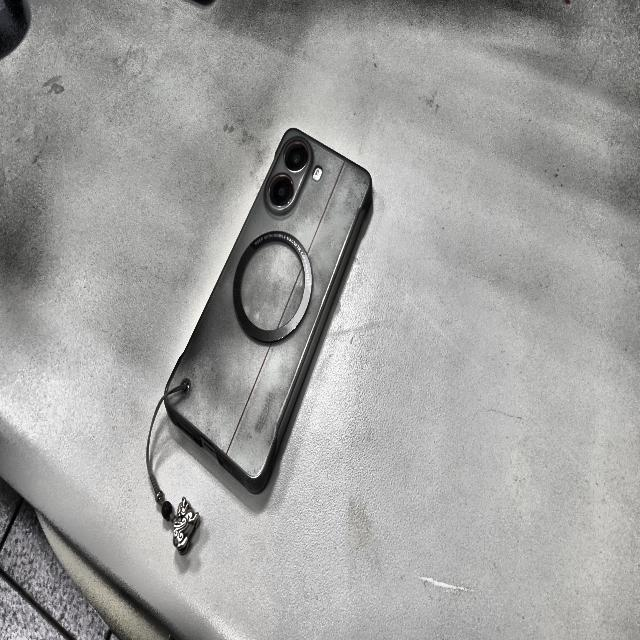PHONE: (165, 129, 371, 493)
